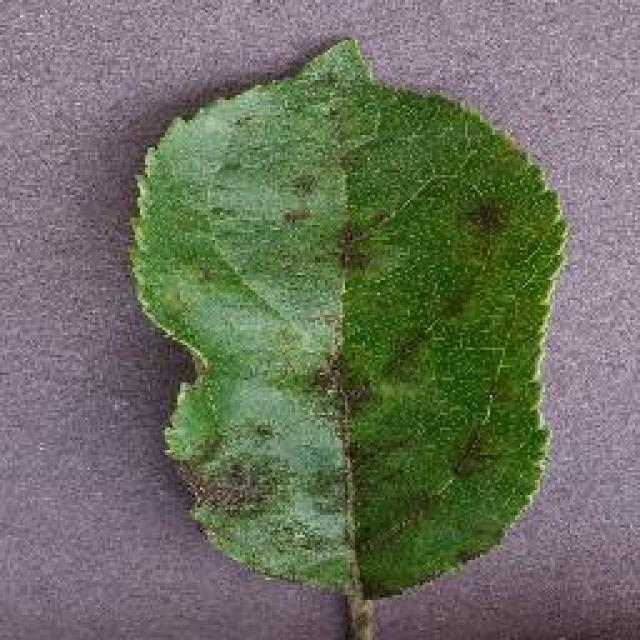apple scab disease: (125, 35, 570, 620)
